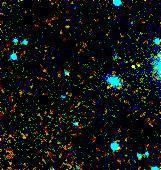star: (120, 49, 150, 79)
